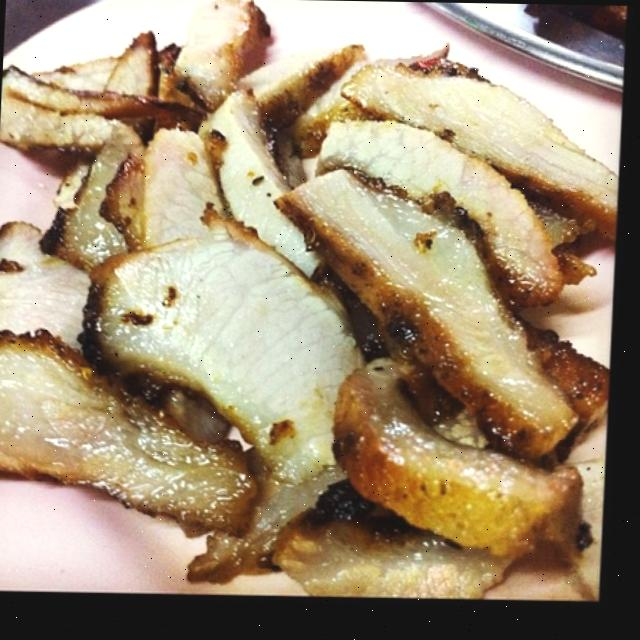猪肉菜式: (0, 7, 593, 581)
